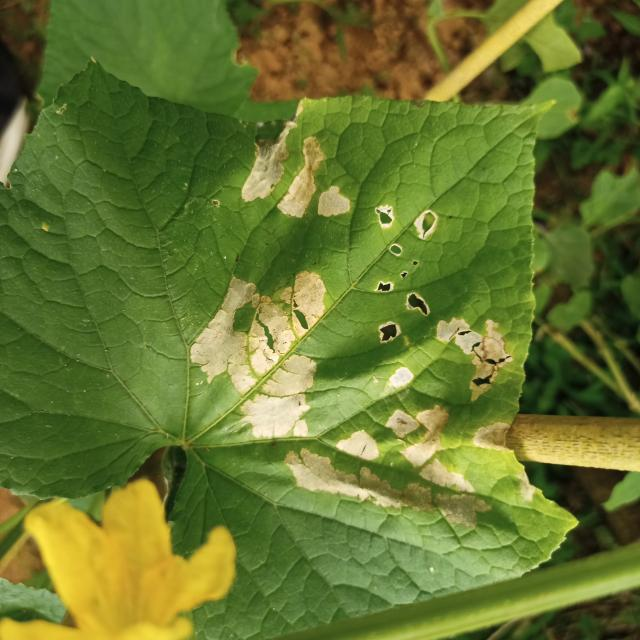disease_cucumber: (189, 121, 512, 534)
